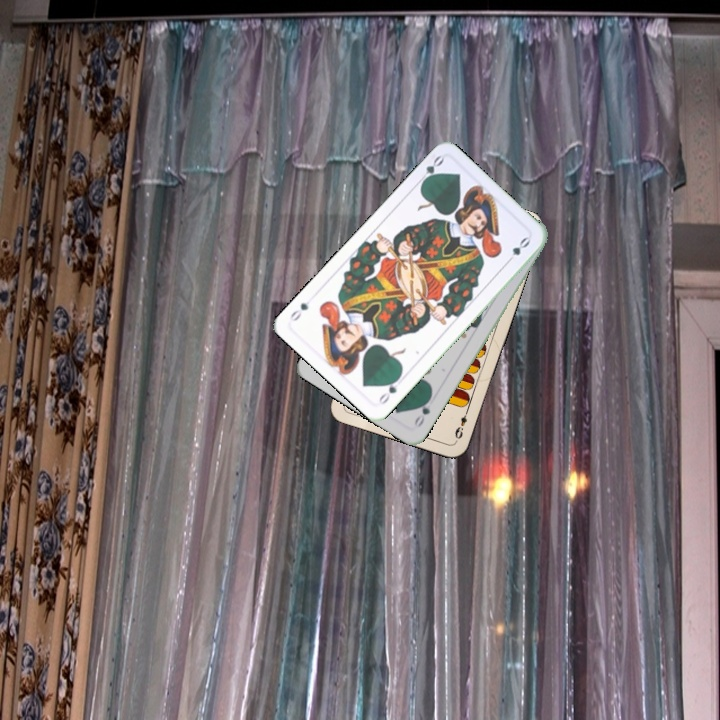E9: (451, 404, 471, 442)
GO: (414, 151, 446, 188), (374, 372, 403, 407), (410, 393, 434, 430)
